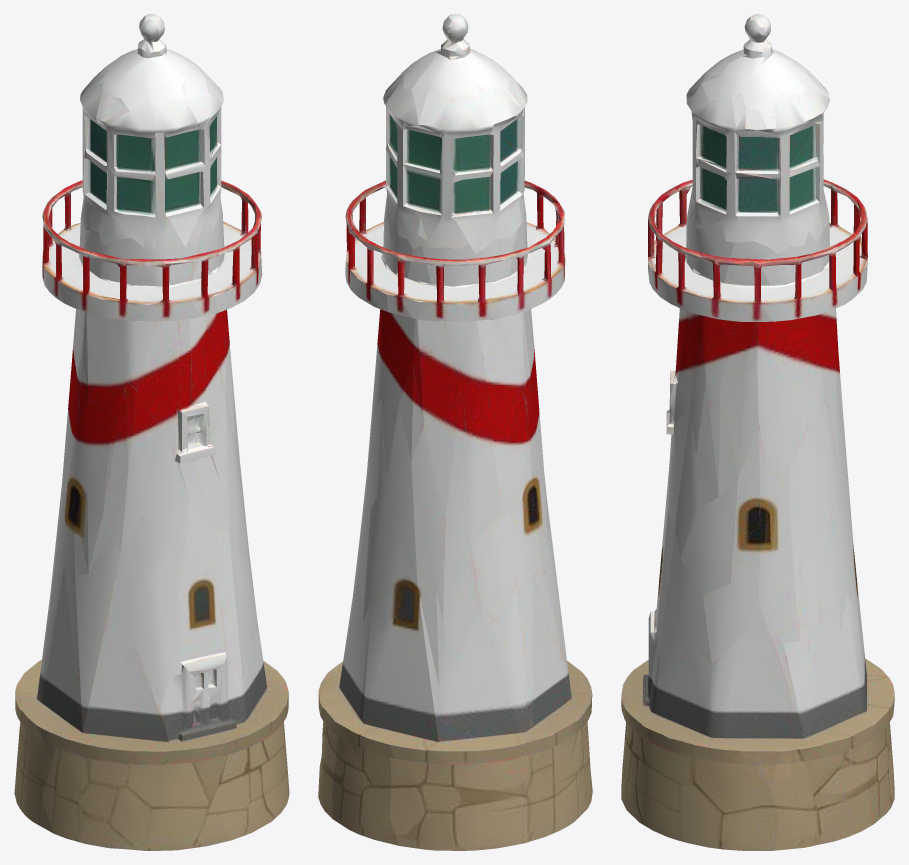
File: lighthouse.glb
3 renders of one model, left to right at view 1: azimuth 30°, elevation 25°; view 2: azimuth 150°, elevation 25°; view 3: azimuth 270°, elevation 25°, orthographic.
Bounding box in the file's own units: 0.6065 × 1.9 × 0.6055.
1 material, 1 textured.
